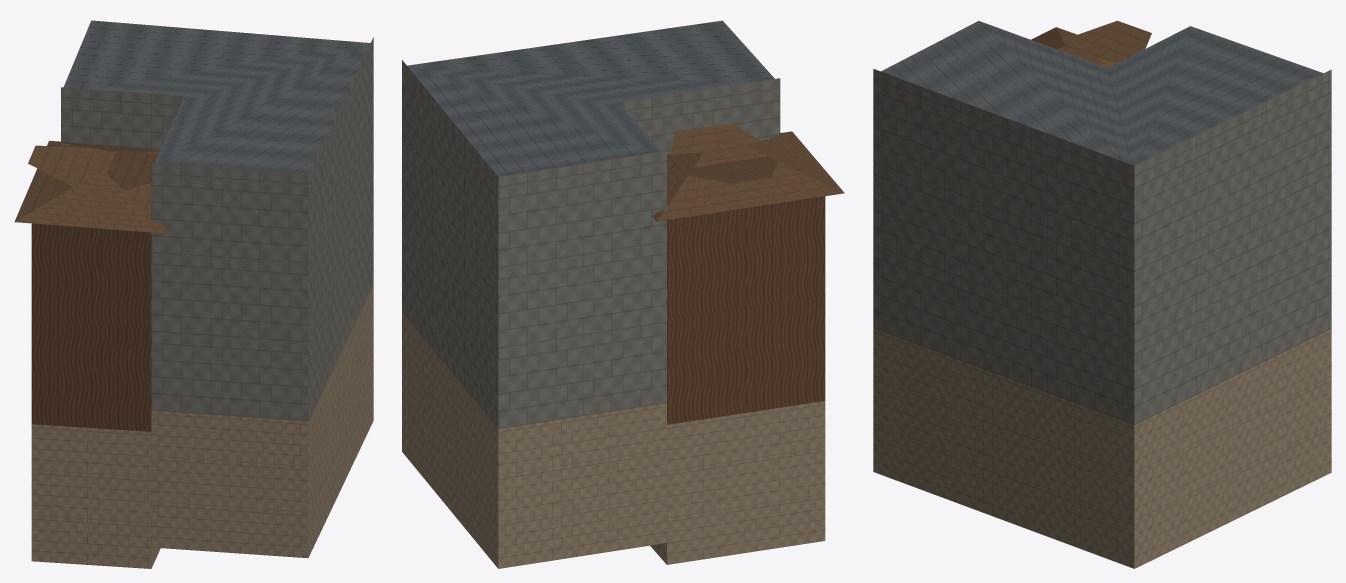
Rendered from bld_c43_45_200.gltf.
The picture shows the model from 3 angles, left to right: view 1: azimuth 30°, elevation 25°; view 2: azimuth 150°, elevation 25°; view 3: azimuth 270°, elevation 25°; orthographic projection. The views are drawn at different scales.
Parts seen in each view (by area): view 1: bld_c43_45_200; view 2: bld_c43_45_200; view 3: bld_c43_45_200.
Boxes of the visible parts, left/top/right/bottom form: bld_c43_45_200: left=14, top=20, right=373, bottom=568; bld_c43_45_200: left=402, top=20, right=844, bottom=568; bld_c43_45_200: left=873, top=20, right=1331, bottom=568.
Bounding box in the file's own units: 15.43 × 15.08 × 14.72.
Materials: 6 (6 with a texture image).
